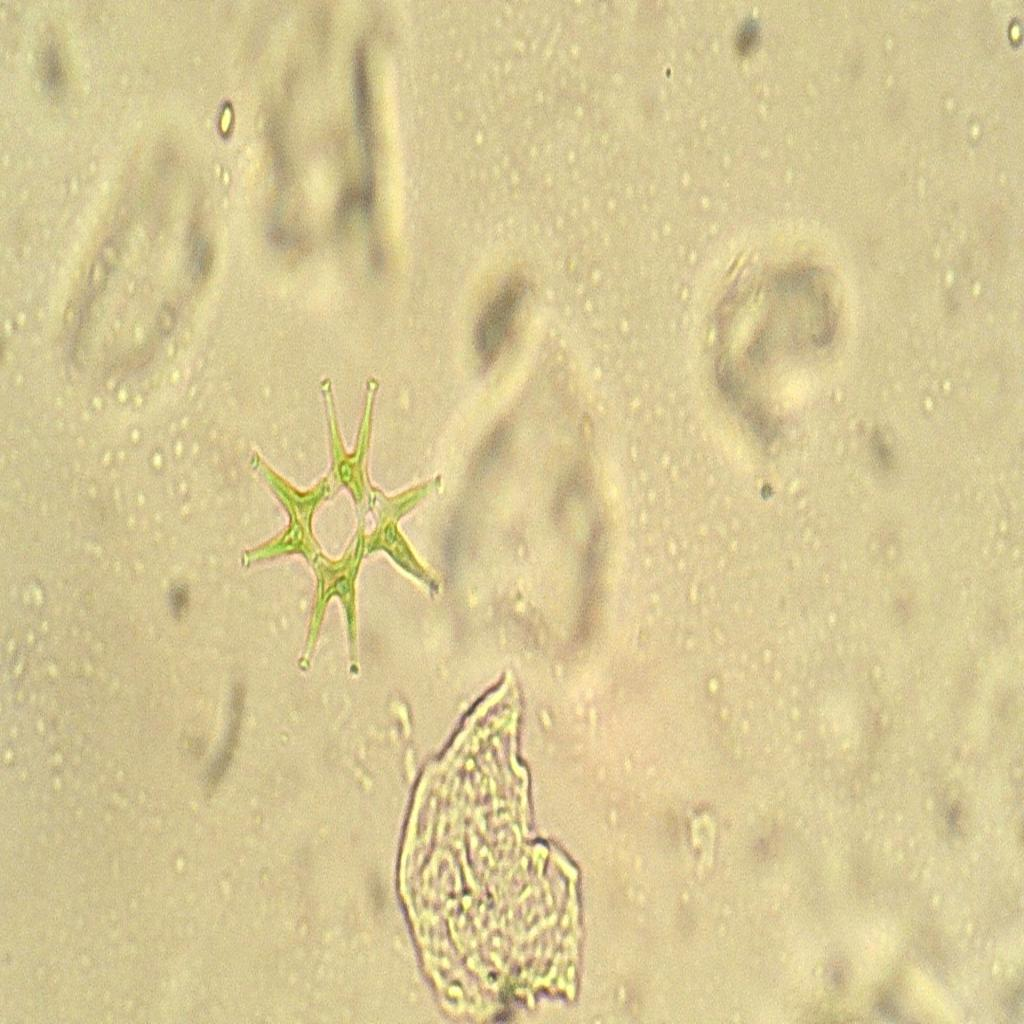Pediastrum_75FO: (228, 364, 467, 688)
